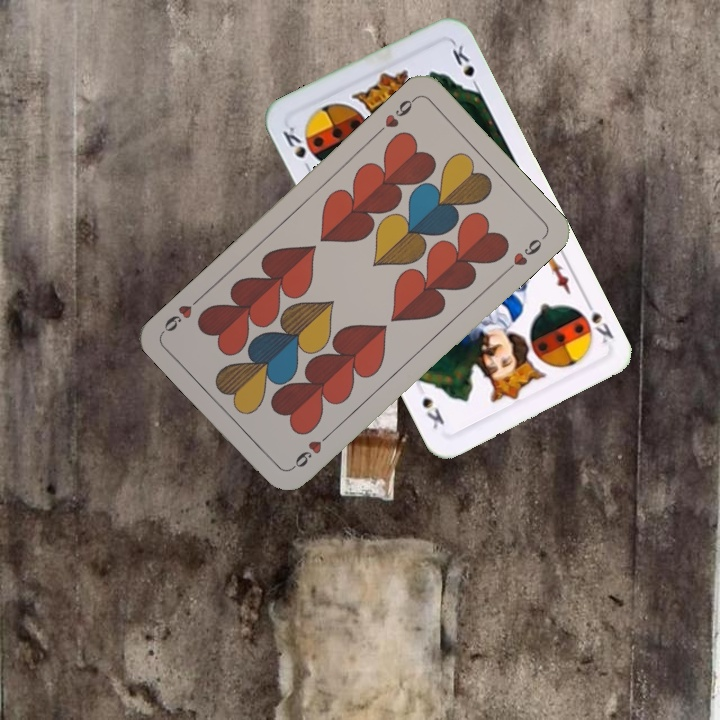H9: (372, 93, 419, 138), (287, 428, 334, 473)
SK: (278, 122, 315, 176), (580, 295, 616, 347)
